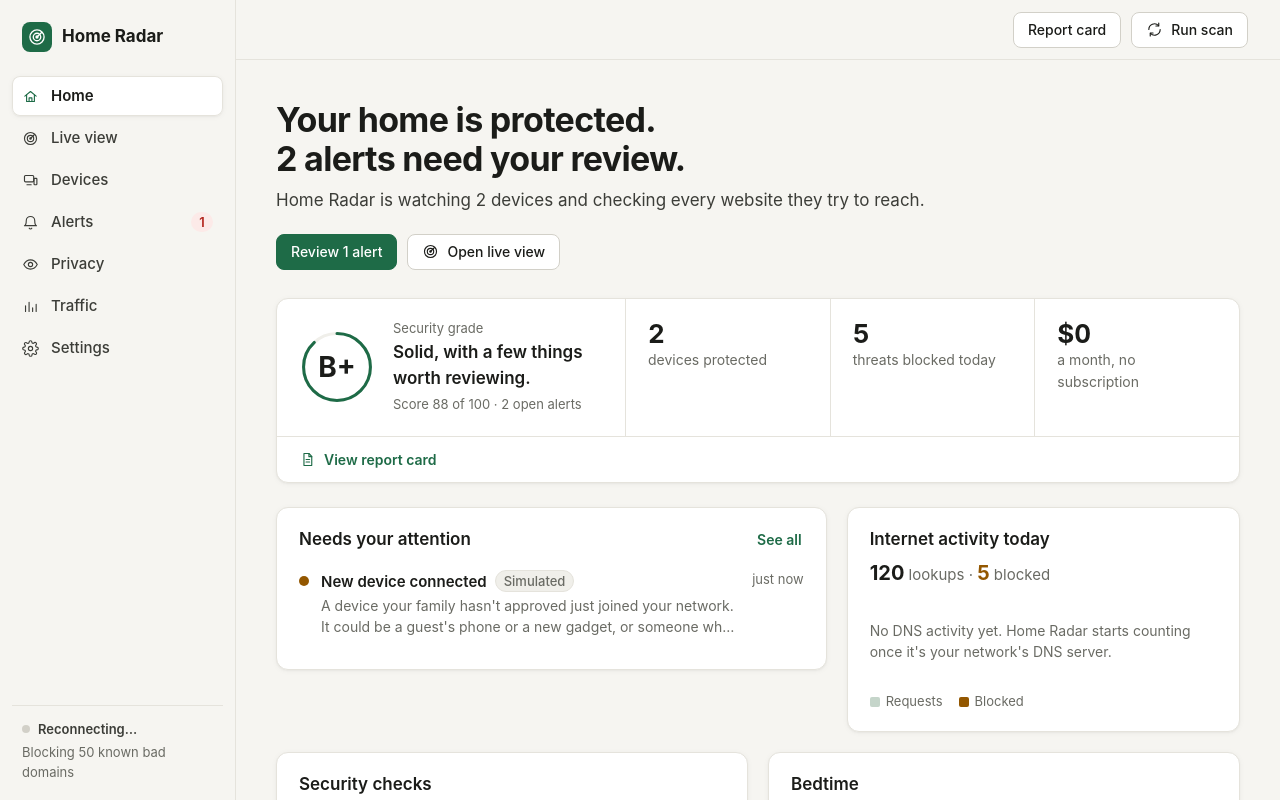
Home Security Report Card › opens a printable report with the grade, alerts, steps, and devices
The width and height of the screenshot is (1280, 800).
Click the button "Report card" at (1067, 30), box [1013,12,1121,48]
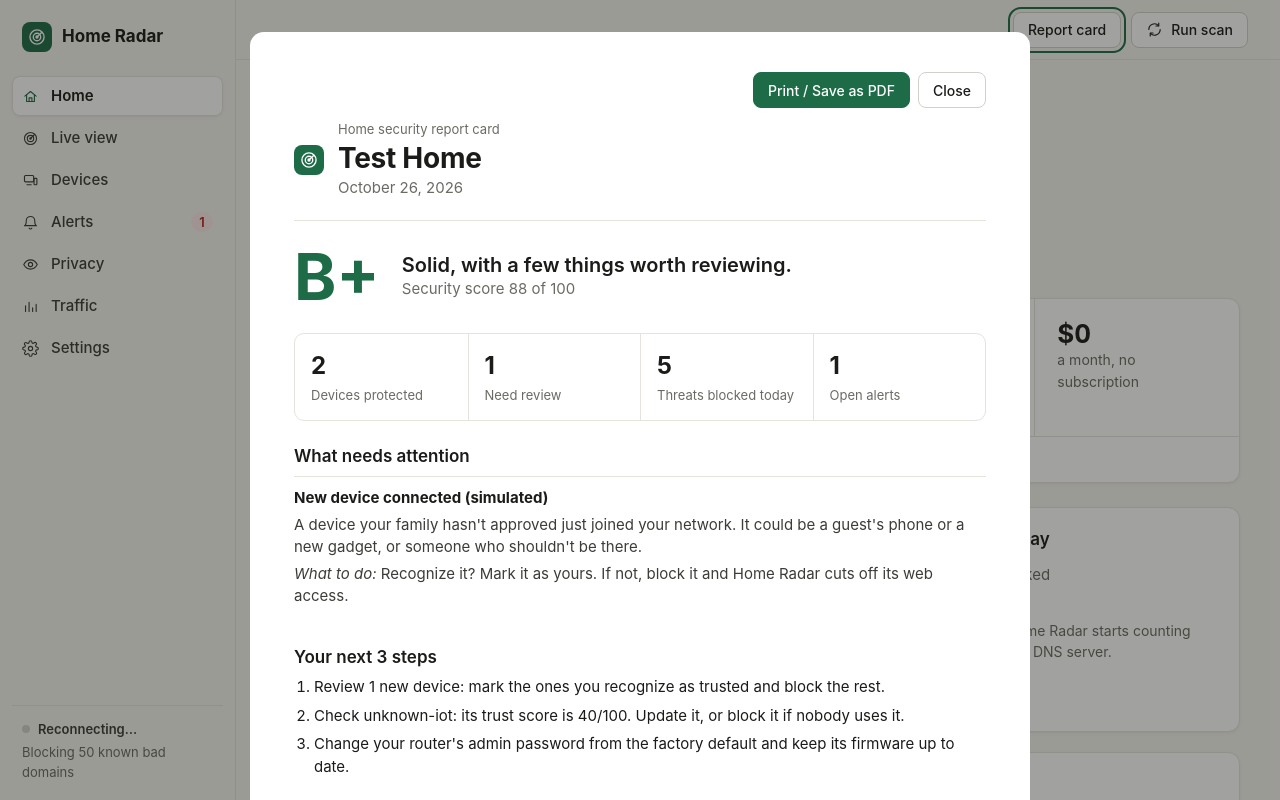
Now the text "B+" is shown, box [294,245,380,309]
Now the text "New device connected (simulated)" is shown, box [294,488,548,507]
Now the list item "Review 1 new device" is shown, box [314,678,885,696]
Click the button "Print / Save as PDF" at (831, 90), box [753,72,910,108]
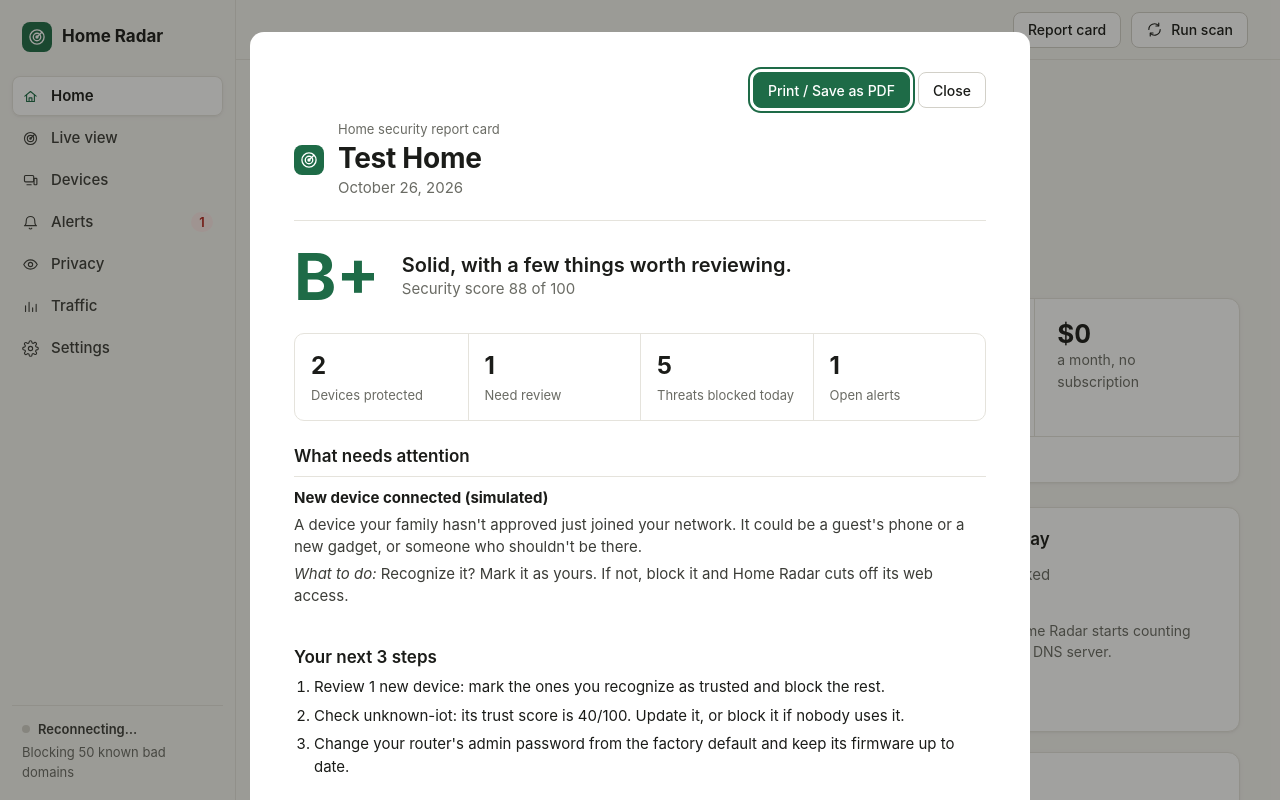
Click the button "Close" at (952, 90), box [918,72,986,108]
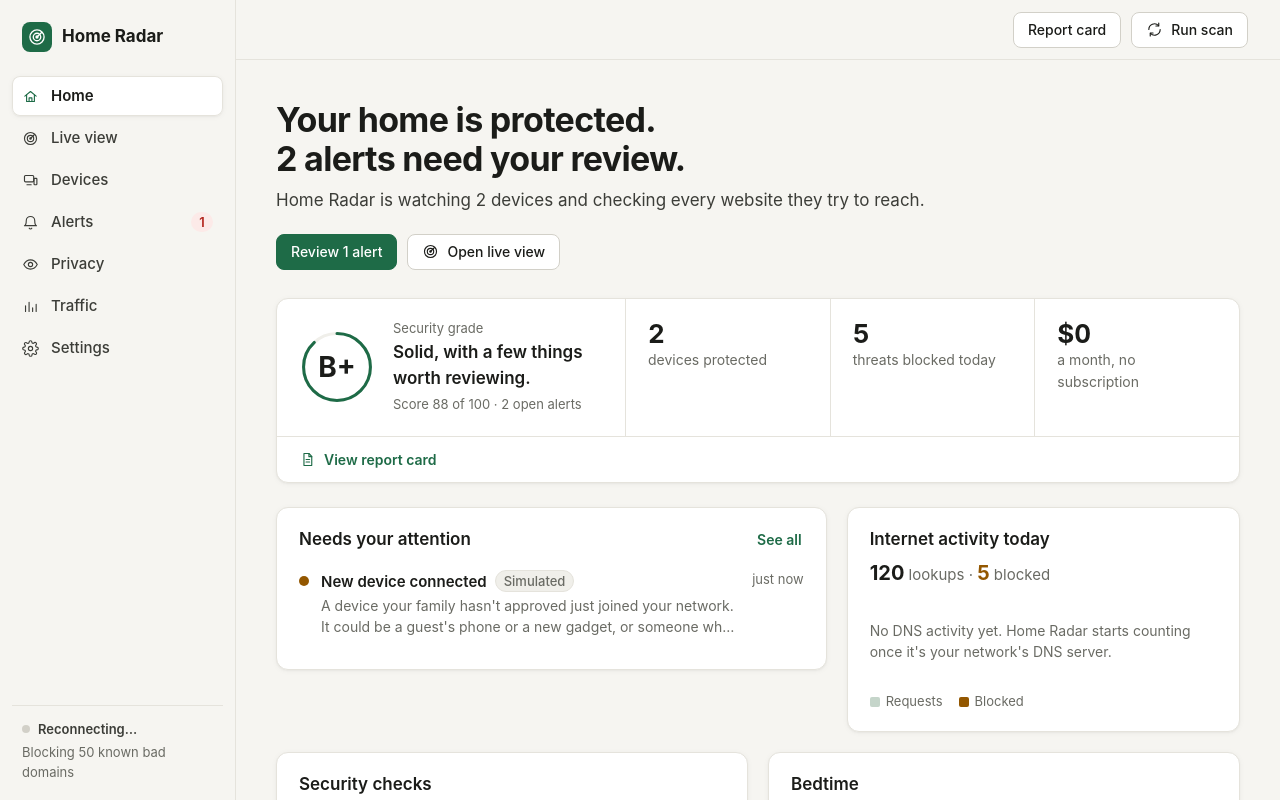
Now the heading "Test Home" is gone
